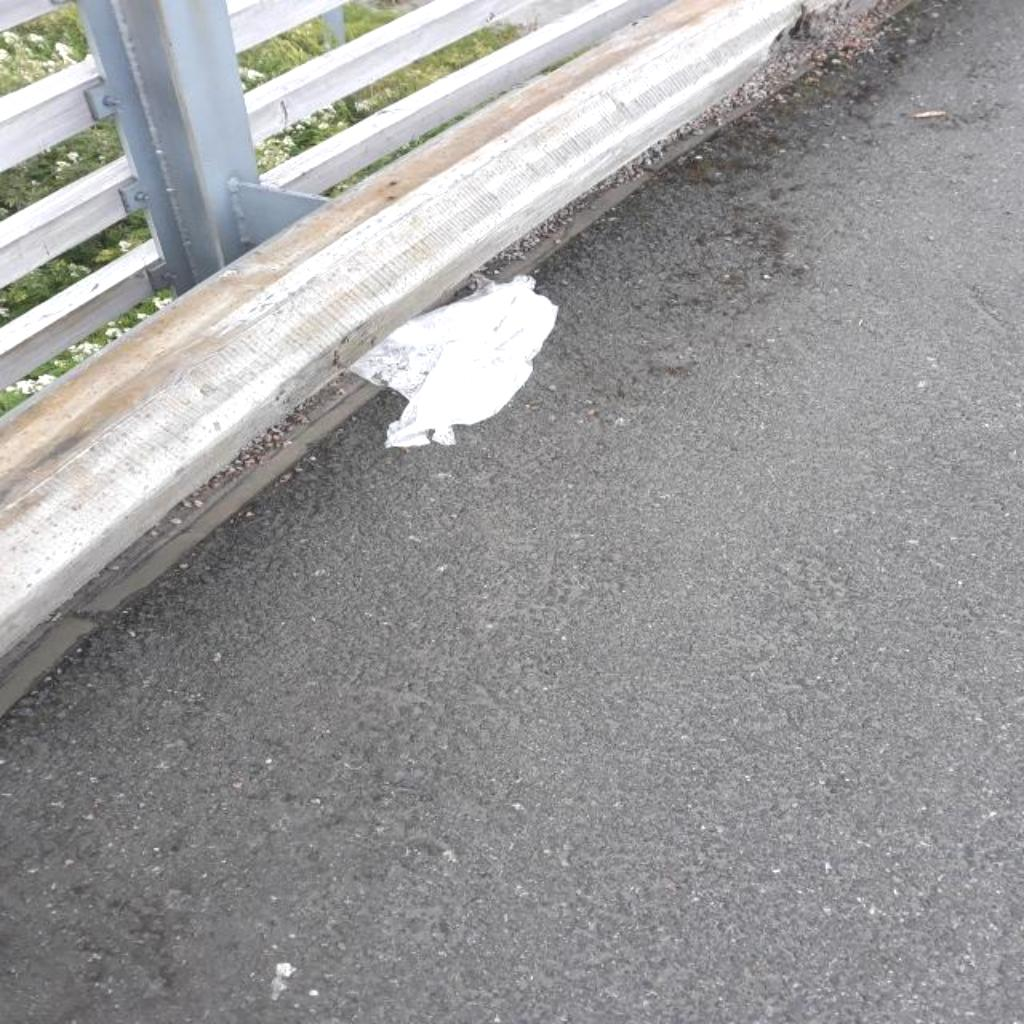garbage: (343, 266, 566, 472)
